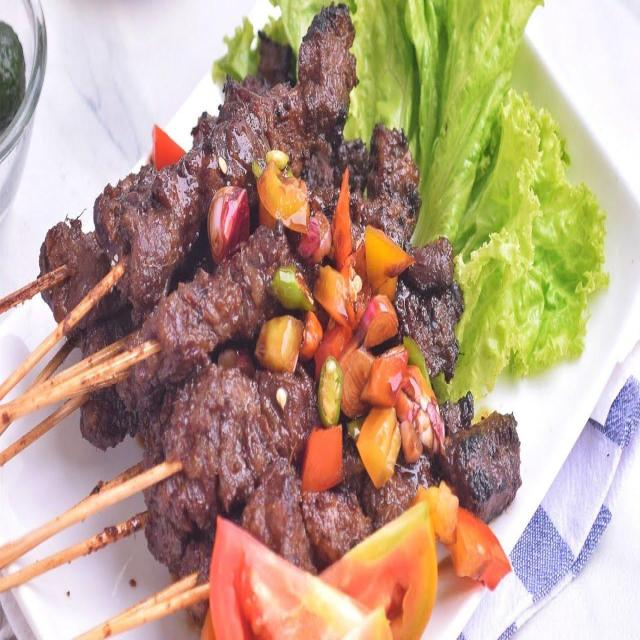Sate: (0, 21, 500, 619)
